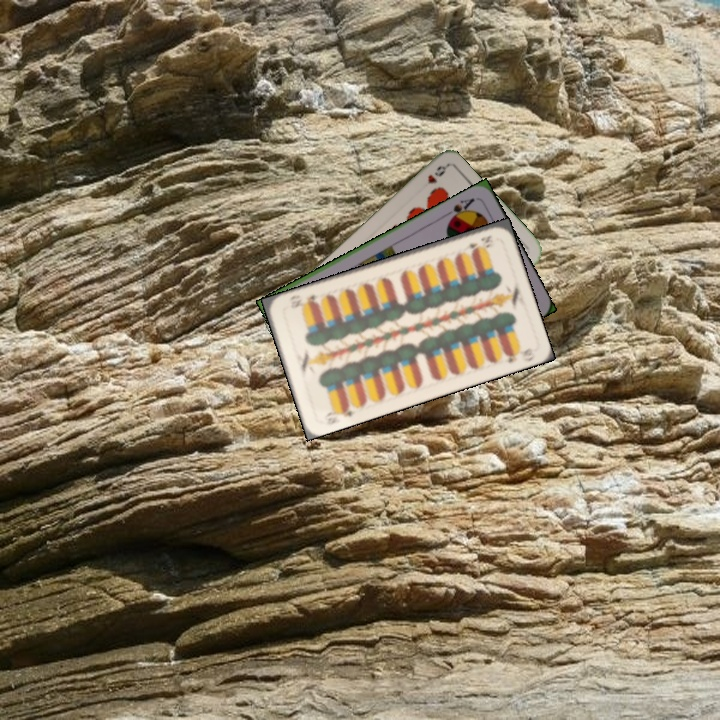E10: (320, 401, 357, 427), (459, 231, 494, 254)
H9: (423, 161, 449, 187)
SA: (441, 194, 477, 224)
